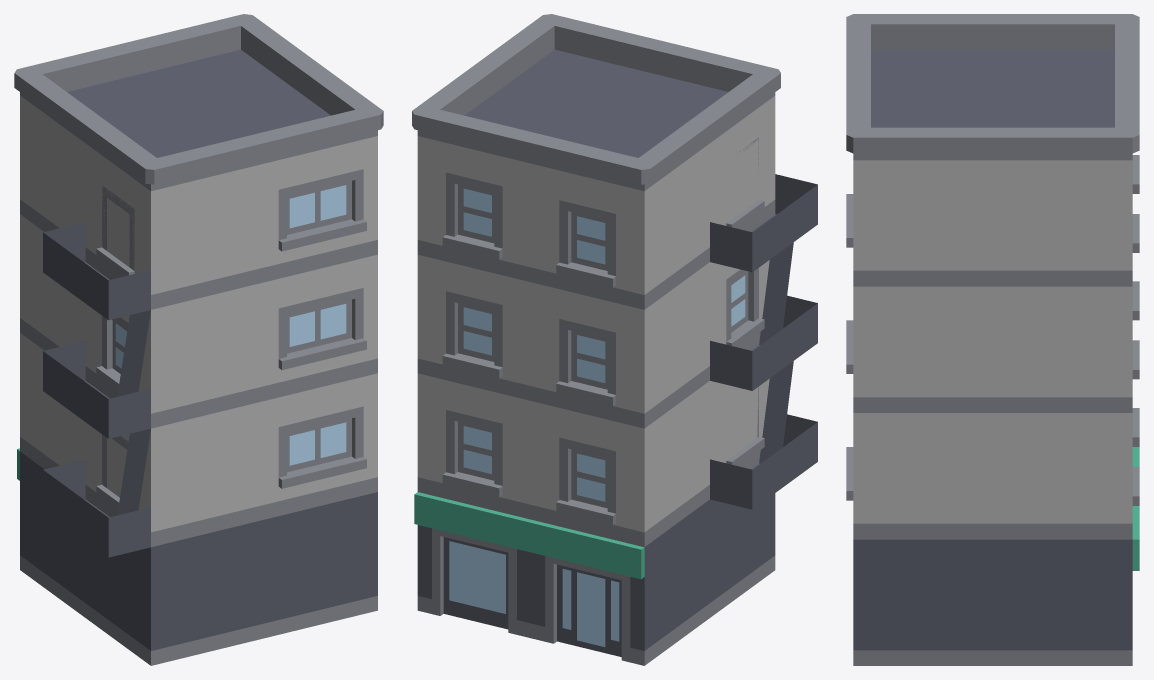
File: yKo7F36Qk2-lod.glb
The picture shows the model from 3 angles, left to right: view 1: azimuth 30°, elevation 25°; view 2: azimuth 150°, elevation 25°; view 3: azimuth 270°, elevation 25°; orthographic projection. The views are drawn at different scales.
Visible parts, largest first — view 1: large_buildingC; view 2: large_buildingC; view 3: large_buildingC.
Boxes of the visible parts, bbox=[...] form: large_buildingC: bbox=[14, 14, 383, 665]; large_buildingC: bbox=[412, 14, 817, 665]; large_buildingC: bbox=[846, 14, 1139, 665].
Size of the model in its own units: 0.97 by 1.68 by 0.84.
